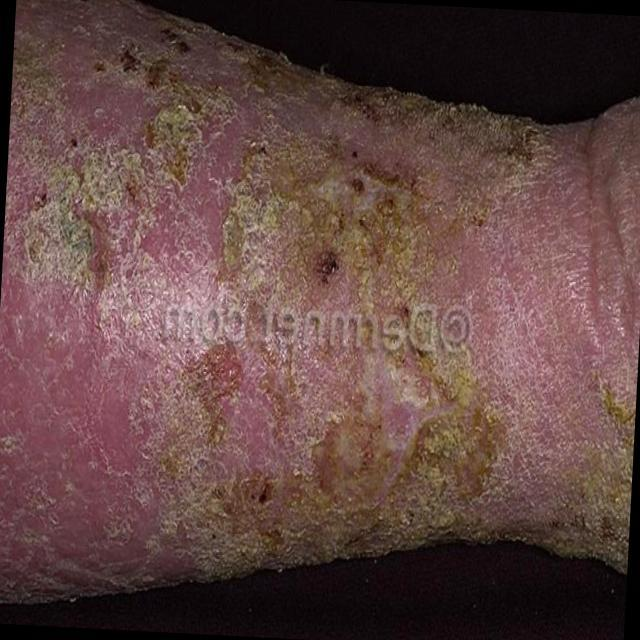Eczema: (27, 5, 640, 575)
